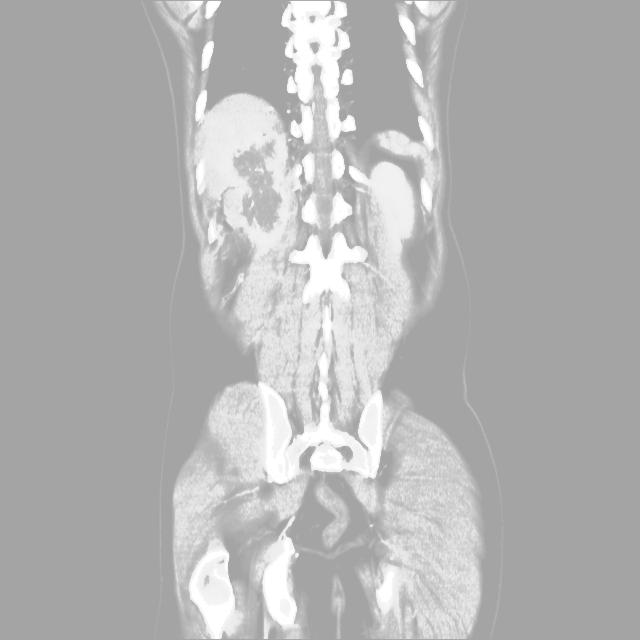TUMOR: (118, 90, 502, 535)
